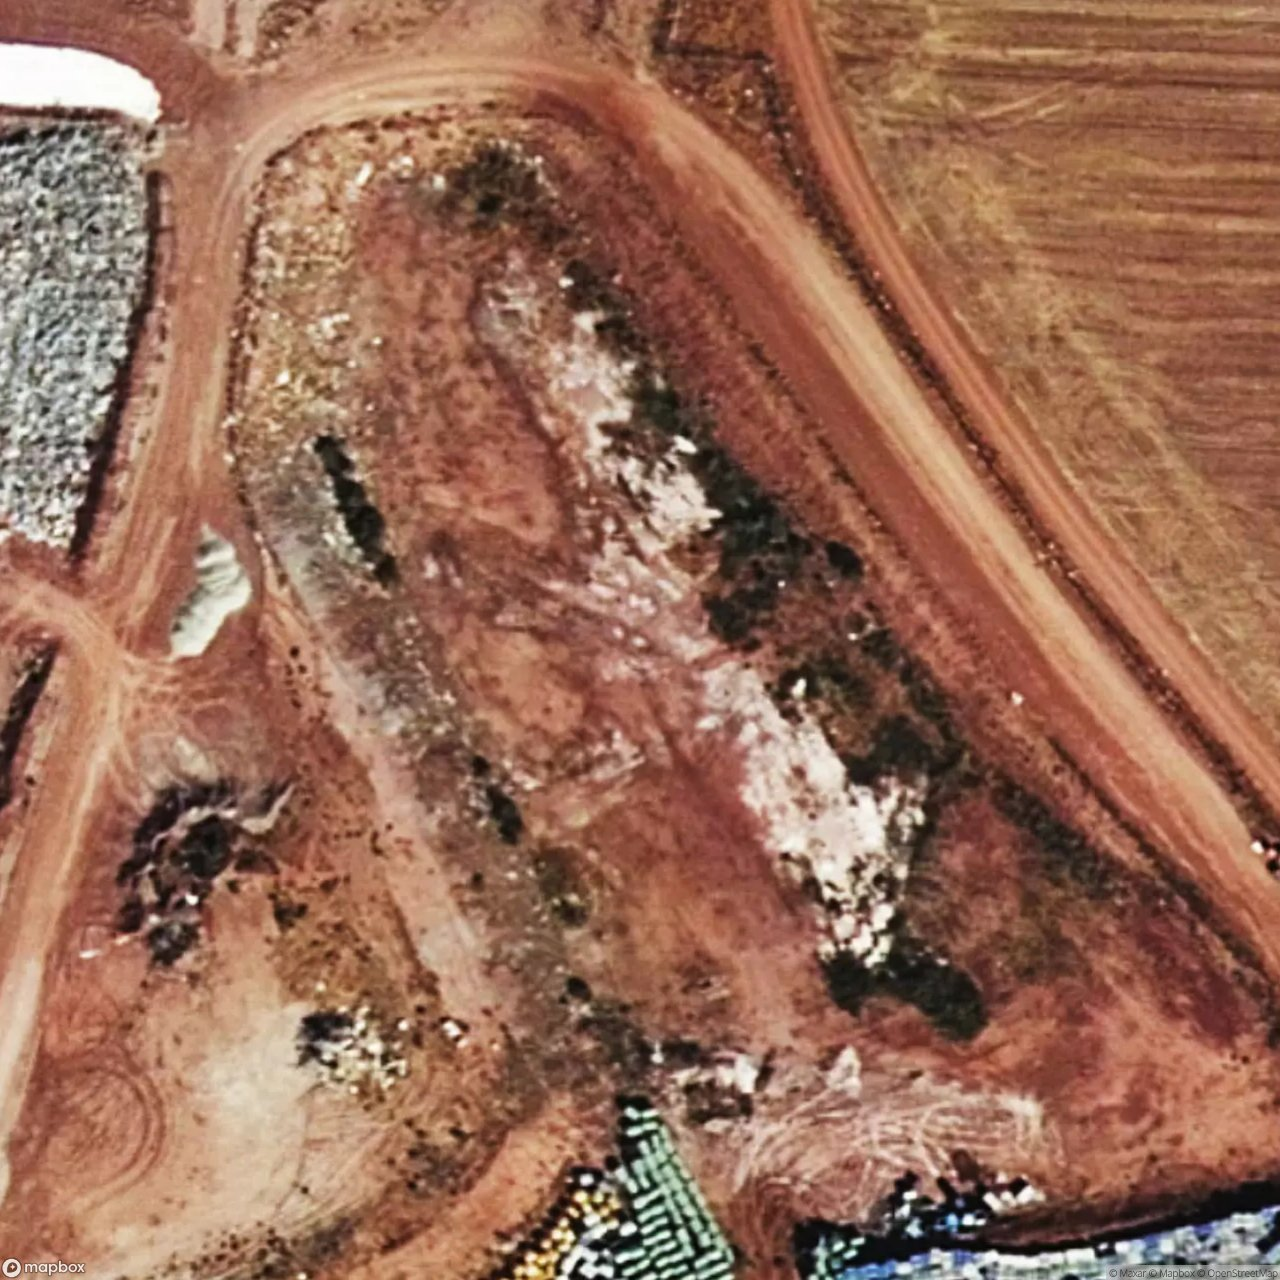dump_site: (0, 94, 177, 572)
